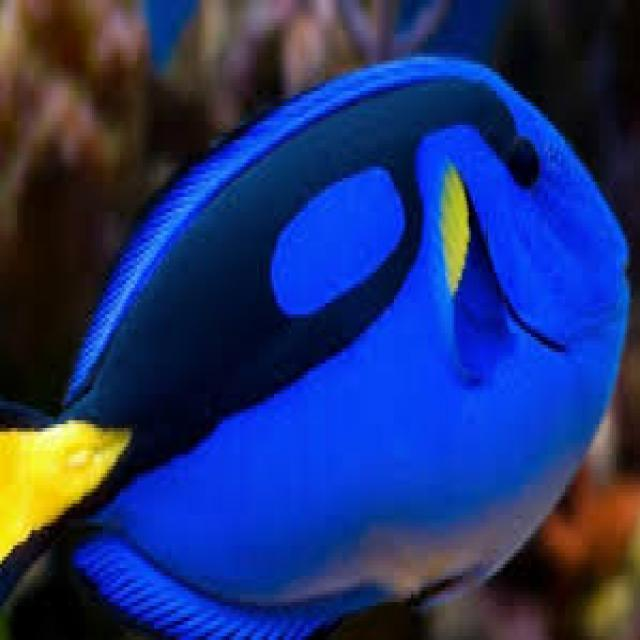TangFish: (2, 52, 631, 640)
